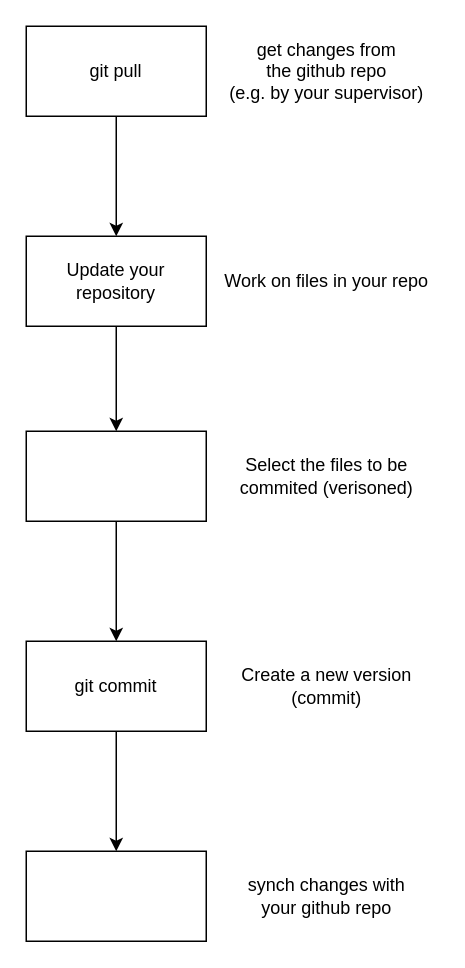
This 465x968 diagram has some shape labels left out. The centre of each missing label's shape, as x and y in pixels:
"git add" belongs at point (115, 475).
"git push" belongs at point (115, 895).
